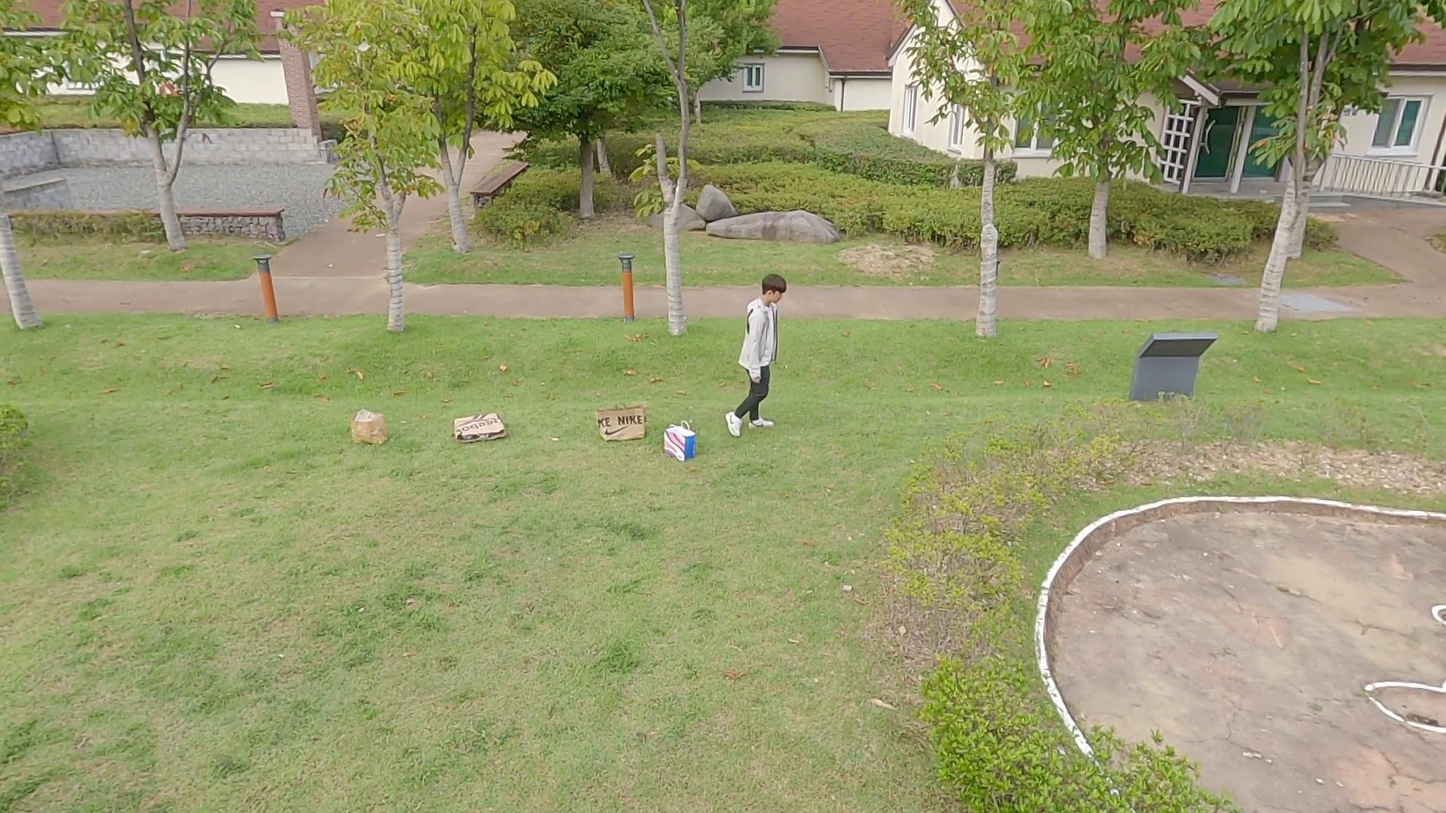person: (728, 267, 793, 436)
trash: (590, 401, 654, 446), (451, 405, 512, 449), (343, 408, 399, 451), (660, 414, 701, 461)
